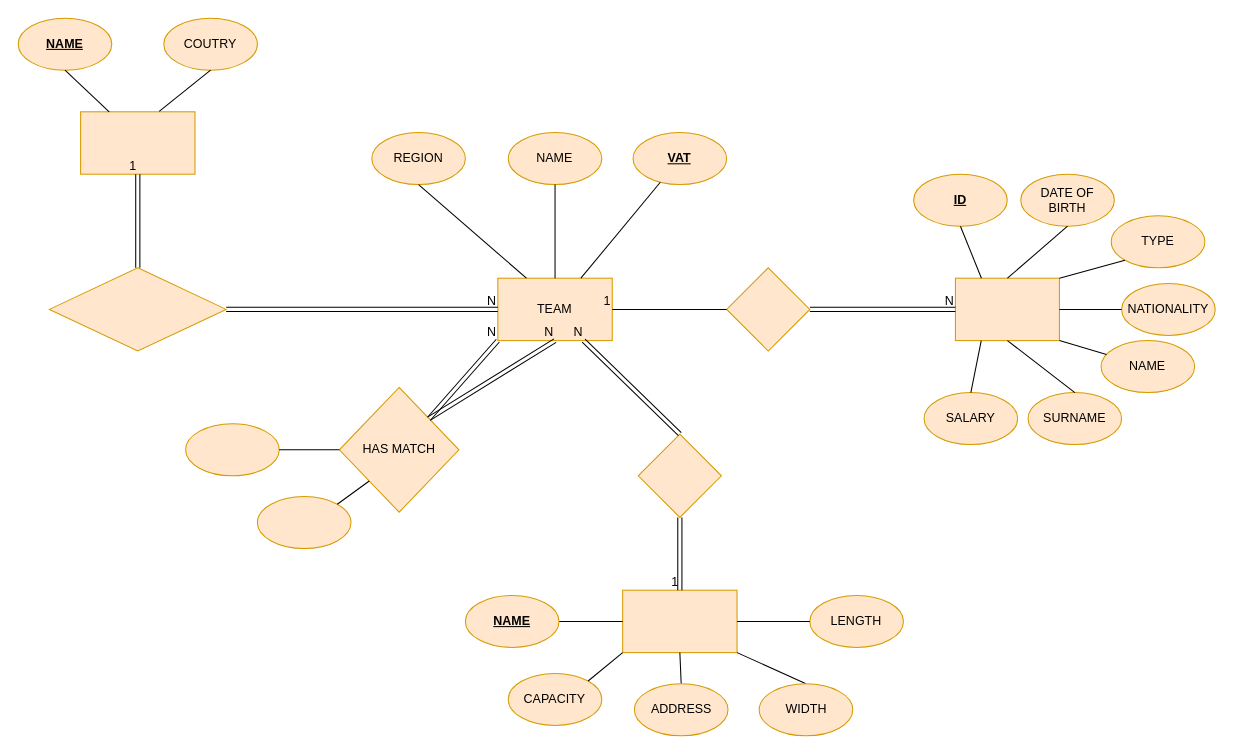
The diagram is 1233 pixels wide and 754 high, and some of its shapes have lost their labels. Each missing label, with the centre of its shape:
DATE: (x=303, y=522)
IS PART OF: (x=768, y=309)
LEAGUE: (x=137, y=142)
PERSON: (x=1006, y=309)
PLAYS AT: (x=679, y=475)
RESULT: (x=232, y=449)
STADIUM: (x=679, y=621)
TAKES PART AT: (x=137, y=309)
